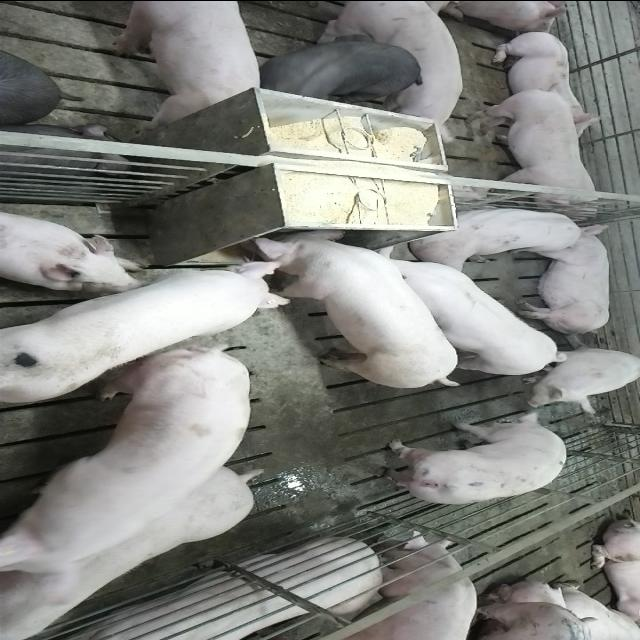Feeding: (5, 243, 294, 400), (238, 221, 466, 385)
Lateral_lying: (21, 539, 393, 640), (513, 222, 615, 334)
Sitting: (511, 344, 638, 412)
Standing: (0, 456, 263, 637), (9, 345, 260, 505), (354, 247, 570, 379), (364, 406, 570, 506), (102, 2, 264, 128), (322, 1, 468, 135), (460, 85, 600, 217), (338, 533, 476, 640)
Sternal_lying: (485, 30, 609, 131), (0, 206, 146, 288), (409, 202, 589, 266)
